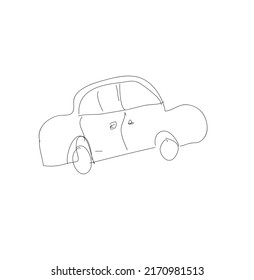car: (36, 73, 210, 175)
